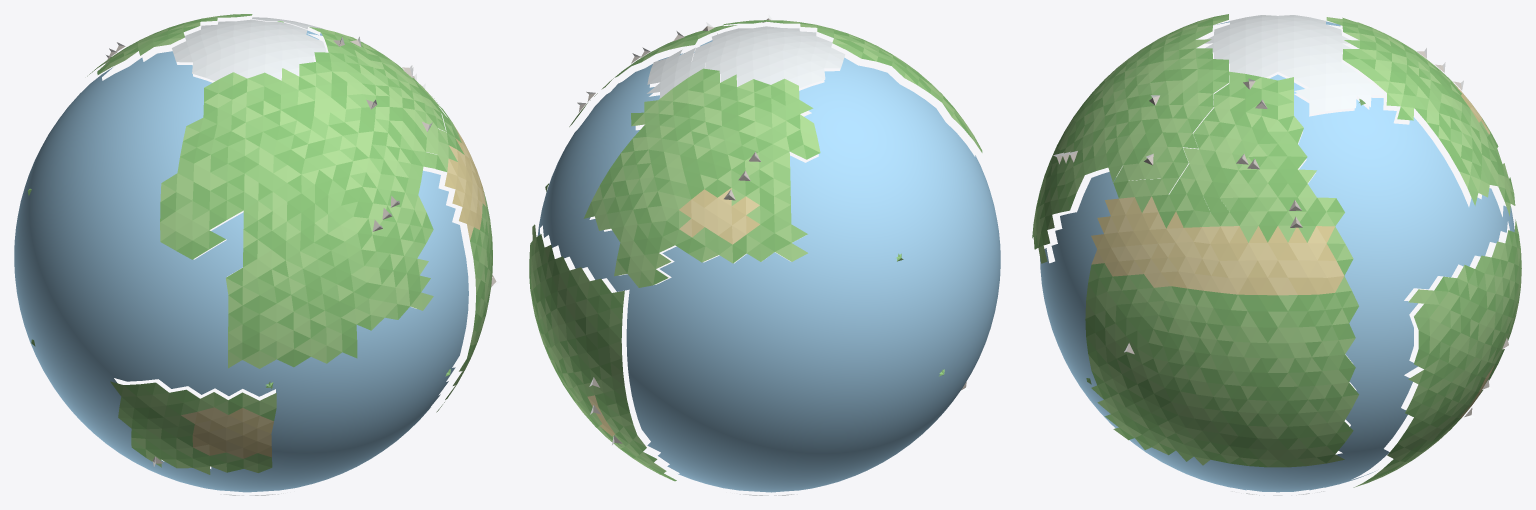
File: earth_lowpoly.glb
The picture shows the model from 3 angles, left to right: view 1: azimuth 30°, elevation 25°; view 2: azimuth 150°, elevation 25°; view 3: azimuth 270°, elevation 25°; orthographic projection. The views are drawn at different scales.
Parts seen in each view (by area): view 1: Ocean, Asia, Australia, Ice_North, Africa, Europe, North_America, Mountains; view 2: Ocean, North_America, South_America, Ice_North, Asia, Greenland, Mountains, Europe; view 3: Africa, Ocean, Asia, South_America, Europe, North_America, Ice_North, Greenland, Mountains.
Boxes of the visible parts, x1,y1,x2,y2 form: Ocean: (14,30,468,492); Asia: (160,52,446,368); Australia: (110,381,276,474); Ice_North: (172,19,326,81); Africa: (426,98,492,412); Europe: (309,27,445,131); North_America: (87,14,252,76); Mountains: (105,36,500,466); Ocean: (537,40,1000,492); North_America: (583,68,820,287); South_America: (529,224,676,481); Ice_North: (692,26,845,88); Asia: (723,20,982,152); Greenland: (647,47,705,98); Mountains: (577,14,968,444); Europe: (590,25,736,100); Africa: (1085,166,1358,467); Ocean: (1040,21,1514,492); Asia: (1032,14,1228,263); South_America: (1353,219,1521,487); Europe: (1169,71,1316,211); North_America: (1326,17,1515,216); Ice_North: (1205,15,1351,78); Greenland: (1294,62,1384,113); Mountains: (1053,48,1512,417).
Size of the model in its own units: 2.03 by 2.03 by 2.06.
